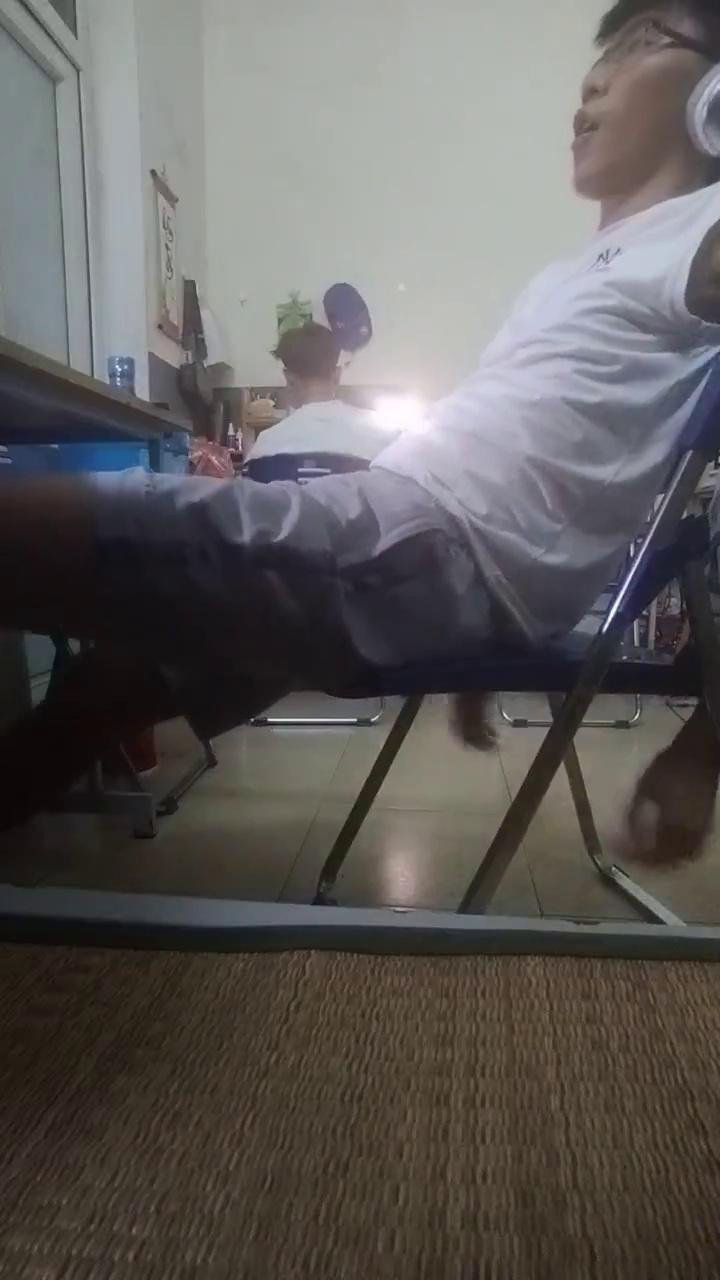BadPosture: (0, 0, 719, 830)
